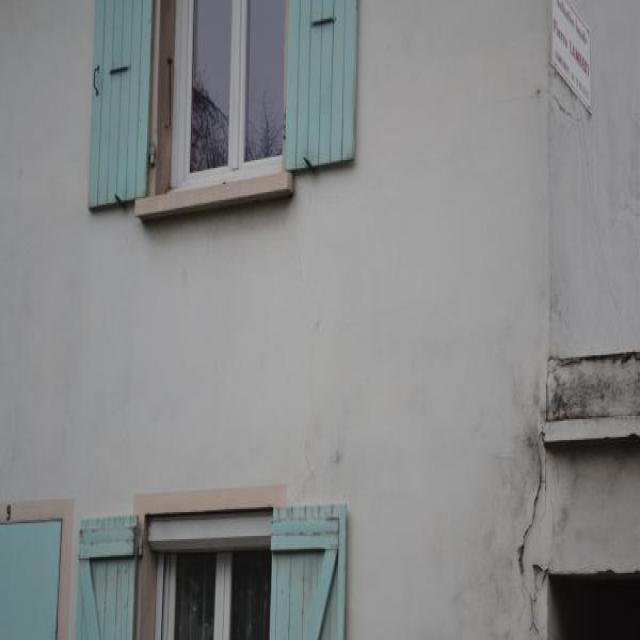crack: (516, 443, 545, 577)
